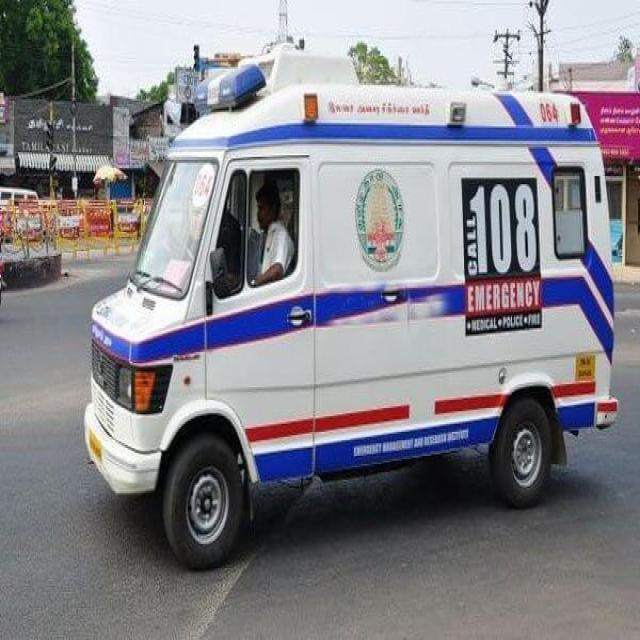ambulance: (95, 95, 619, 504)
